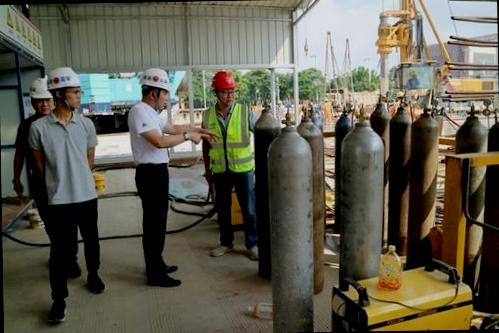helmet: (136, 66, 174, 99), (40, 66, 82, 95), (209, 69, 242, 97)
no_vest: (28, 104, 94, 204), (124, 104, 168, 172)
person: (21, 61, 106, 313), (123, 65, 190, 283), (194, 65, 258, 258)
